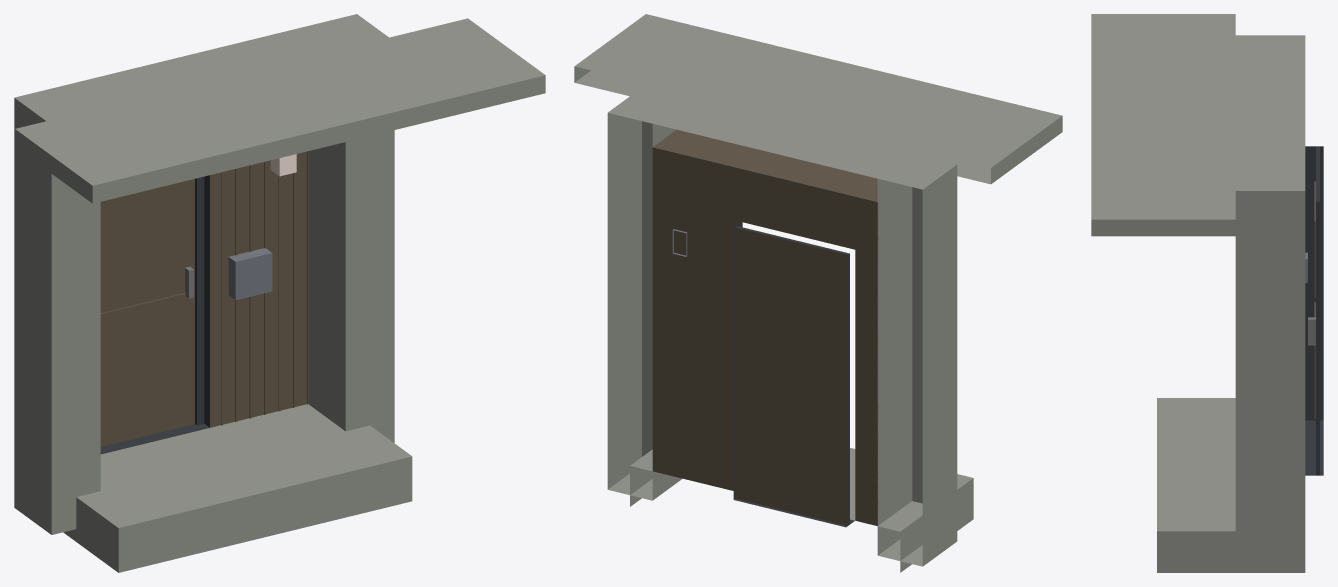
The model's file is entrance_close.fbx.
3 views of the same model, side by side, from view 1: azimuth 30°, elevation 25°; view 2: azimuth 150°, elevation 25°; view 3: azimuth 270°, elevation 25° (orthographic). The views are drawn at different scales.
Parts seen in each view (by area): view 1: a2000s3/0/entrance_close; view 2: a2000s3/0/entrance_close; view 3: a2000s3/0/entrance_close.
Boxes of the visible parts, box(x1,y1,x2,y2) form: a2000s3/0/entrance_close: box(14, 14, 545, 572); a2000s3/0/entrance_close: box(574, 14, 1062, 572); a2000s3/0/entrance_close: box(1091, 14, 1323, 572).
Bounding box in the file's own units: 3.7 × 3.34 × 1.77.
